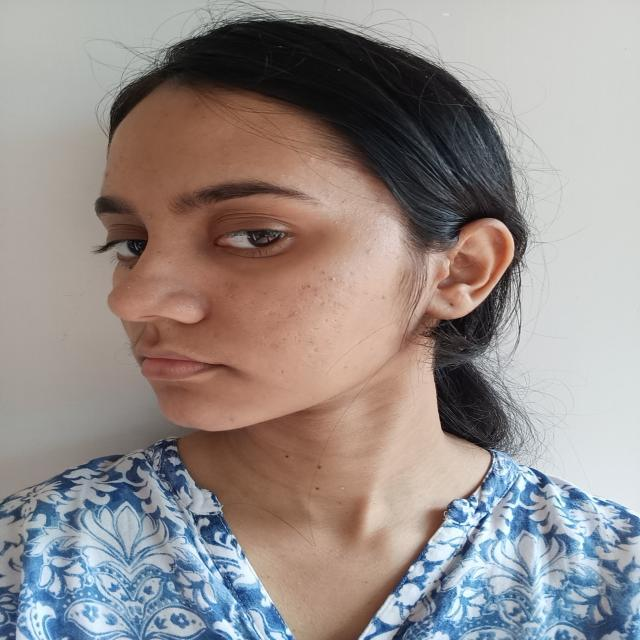acne: (362, 244, 376, 258), (227, 414, 239, 424), (306, 154, 317, 164), (327, 276, 340, 284), (147, 210, 156, 220), (104, 170, 112, 180), (192, 103, 202, 110)
pores: (226, 280, 346, 342), (150, 281, 170, 299), (172, 304, 194, 310)
